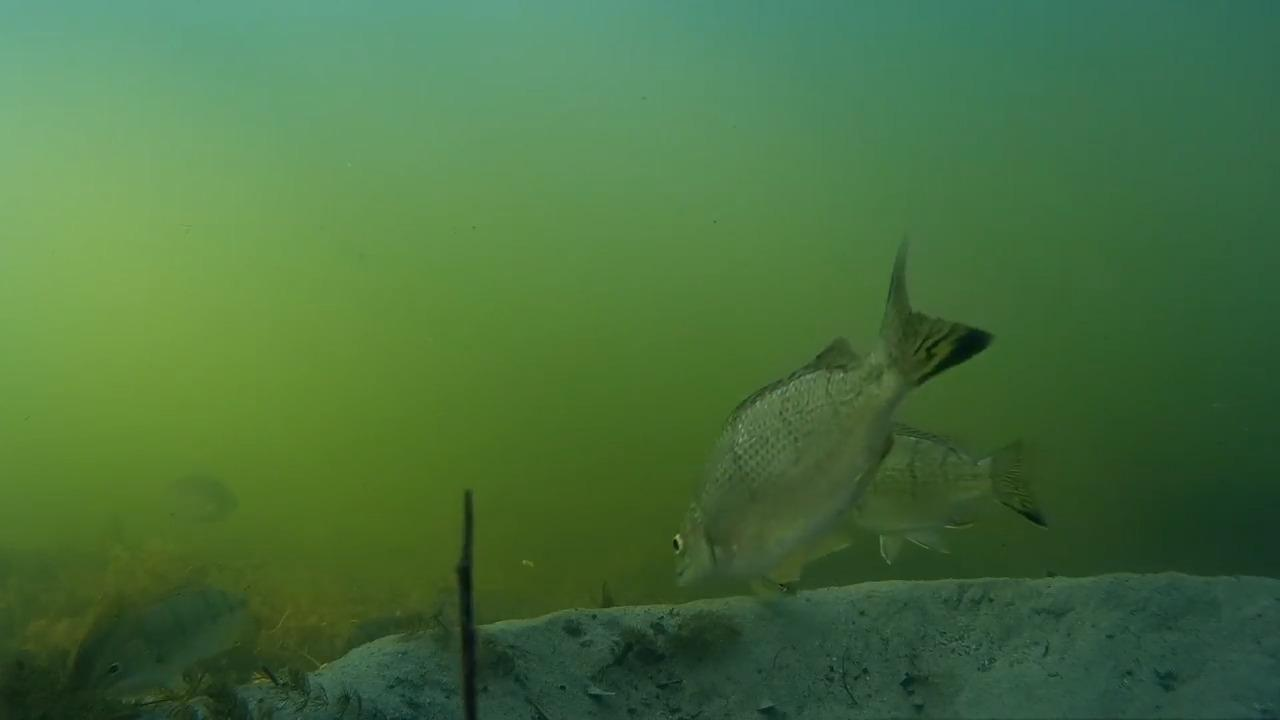Tilapia: (645, 233, 997, 592), (798, 410, 1055, 568), (33, 572, 273, 718), (141, 430, 242, 536)
